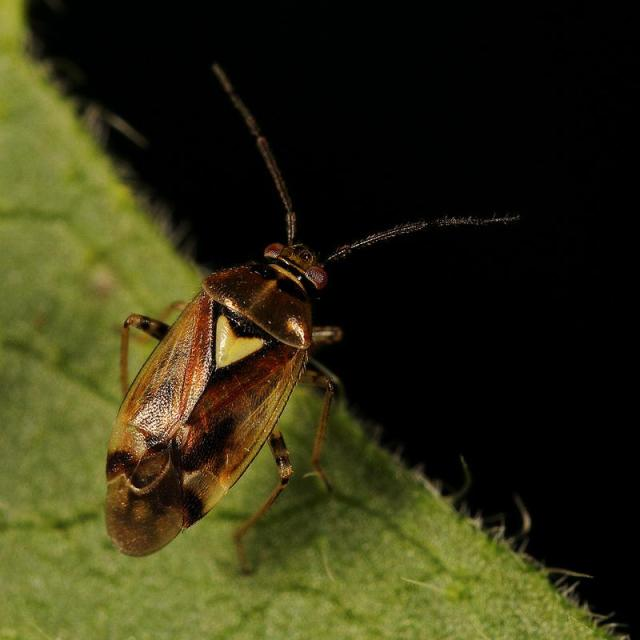Miridae-Adult-: (90, 49, 526, 556)
